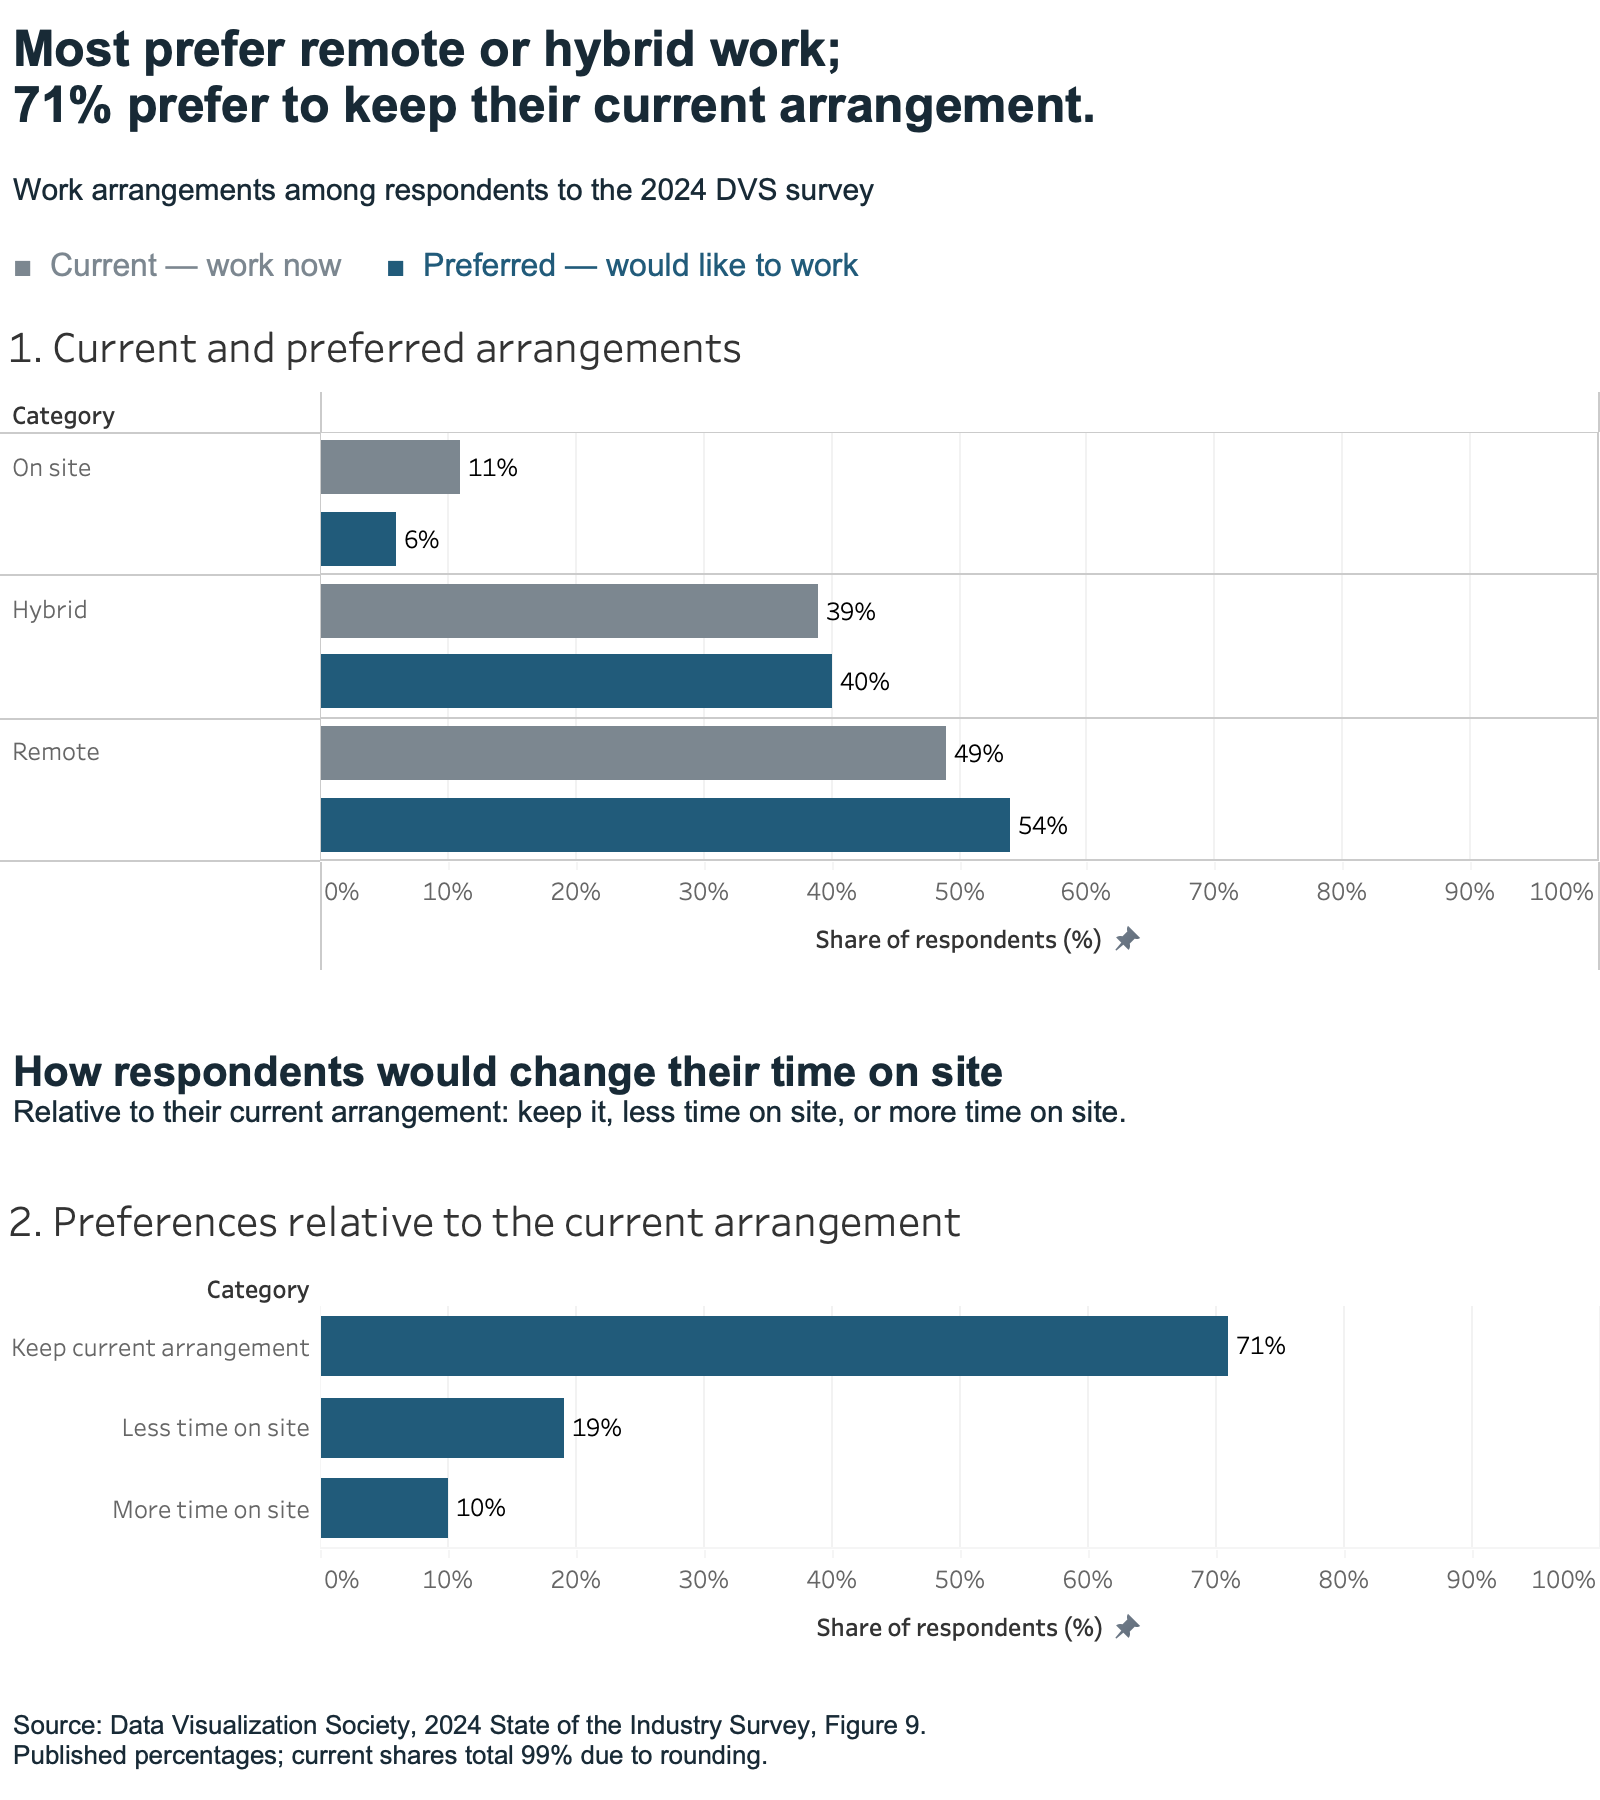

Layout of this report page (visuals, bound fields, positions):
{"tool":"tableau","page":{"name":"Work arrangements 2024","canvas":[800,900],"ordinal":0},"visuals":[{"type":"text","box":[0,0,800,76.5]},{"type":"text","box":[0,76.5,800,36]},{"type":"text","box":[0,112.5,800,40.5]},{"type":"worksheet","title":"1. Current and preferred arrangements","mark":"Automatic","rows":["Category","Series"],"cols":["Percent"],"box":[0,153,800,333]},{"type":"text","box":[0,499.5,800,90]},{"type":"worksheet","title":"2. Preferences relative to the current arrangement","mark":"Automatic","rows":["Category"],"cols":["Percent"],"box":[0,589.5,800,238.5]},{"type":"text","box":[0,841.5,800,58.5]}]}

Visuals, with their boxes in screenshot pixels (x1, y1, x2, y2), scaled from the page's 800x900 canvas onto the 1600x1800 screenshot:
text: <bbox>0, 0, 1599, 153</bbox>
text: <bbox>0, 153, 1599, 225</bbox>
text: <bbox>0, 225, 1599, 306</bbox>
"1. Current and preferred arrangements" worksheet: <bbox>0, 306, 1599, 972</bbox>
text: <bbox>0, 999, 1599, 1179</bbox>
"2. Preferences relative to the current arrangement" worksheet: <bbox>0, 1179, 1599, 1656</bbox>
text: <bbox>0, 1683, 1599, 1799</bbox>
